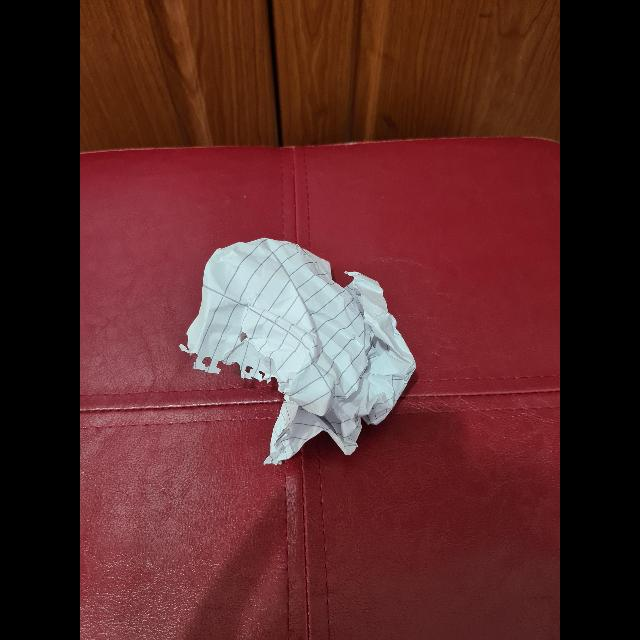scrap_paper: (188, 235, 418, 457)
